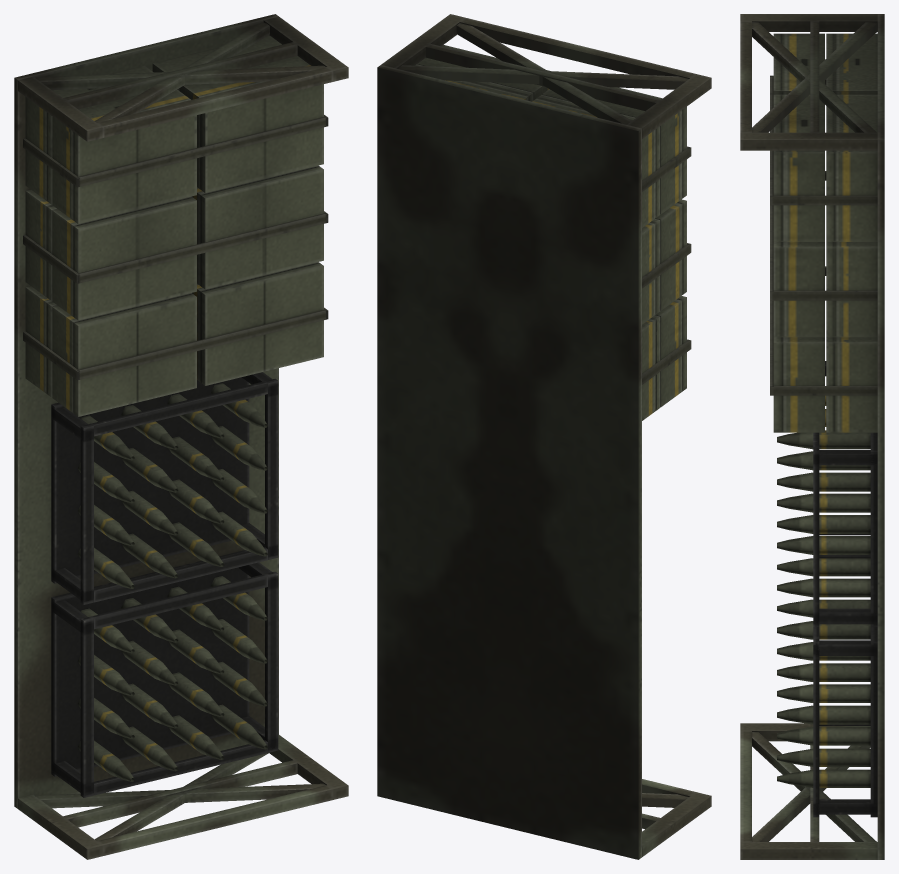
File: hemtt_ammo_module_pbr.glb
3 renders of one model, left to right at view 1: azimuth 30°, elevation 25°; view 2: azimuth 150°, elevation 25°; view 3: azimuth 270°, elevation 25°, orthographic.
Parts seen in each view (by area): view 1: hemtt_ammo_module_pbr; view 2: hemtt_ammo_module_pbr; view 3: hemtt_ammo_module_pbr.
Boxes of the visible parts, x1,y1,x2,y2 form: hemtt_ammo_module_pbr: [14, 14, 348, 859]; hemtt_ammo_module_pbr: [377, 14, 711, 859]; hemtt_ammo_module_pbr: [740, 14, 884, 859].
Bounding box in the file's own units: 2.58 × 6.87 × 1.25.
Materials: 1 (1 with a texture image).
